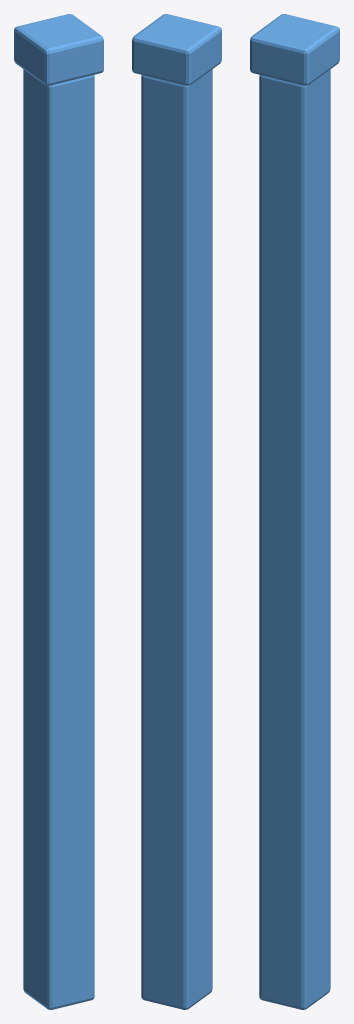
File: PGK_Post_Square_1_5m_LOD0.fbx
3 views of the same model, side by side, from view 1: azimuth 30°, elevation 25°; view 2: azimuth 150°, elevation 25°; view 3: azimuth 330°, elevation 25° (orthographic).
Visible parts, largest first — view 1: Post, Cap; view 2: Post, Cap; view 3: Post, Cap.
Part boxes in pixels (box(x1,y1,x2,y2)): Post: box(23, 69, 94, 1009); Cap: box(14, 14, 103, 85); Post: box(141, 69, 212, 1009); Cap: box(132, 14, 221, 85); Post: box(259, 69, 330, 1009); Cap: box(250, 14, 339, 85).
Bounding box in the file's own units: 0.1 × 1.56 × 0.1.
